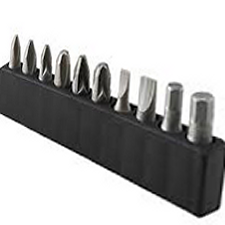screwdriver: (6, 22, 225, 203)
